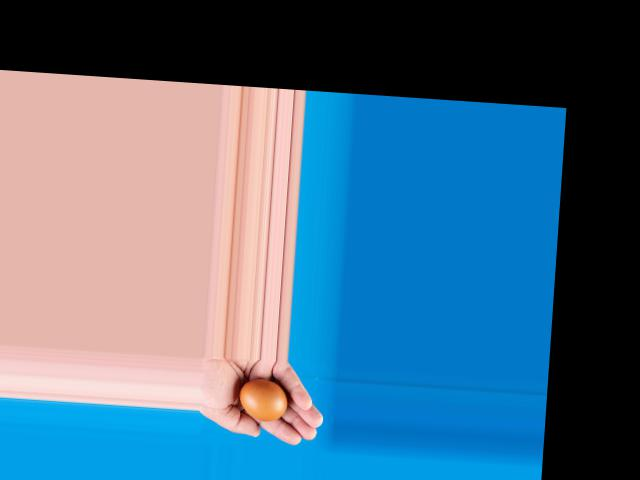egg: (238, 378, 290, 422)
